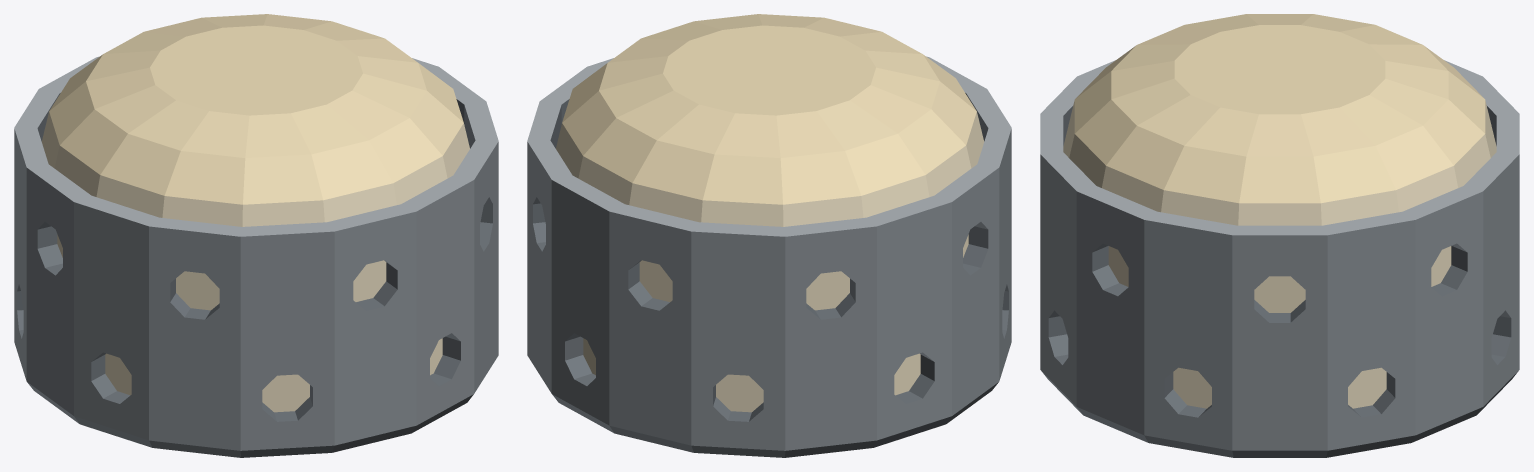
The model's file is FMS_Workshop_PRD_01.fbx.
The picture shows the model from 3 angles, left to right: view 1: azimuth 30°, elevation 25°; view 2: azimuth 150°, elevation 25°; view 3: azimuth 270°, elevation 25°; orthographic projection.
Parts seen in each view (by area): view 1: FMS_Workshop_PRD_01_Body; view 2: FMS_Workshop_PRD_01_Body; view 3: FMS_Workshop_PRD_01_Body.
Boxes of the visible parts, box(x1,y1,x2,y2) form: FMS_Workshop_PRD_01_Body: box(14, 14, 498, 457); FMS_Workshop_PRD_01_Body: box(527, 14, 1011, 457); FMS_Workshop_PRD_01_Body: box(1040, 14, 1519, 457).
Size of the model in its own units: 0.25 by 0.167 by 0.25.
Materials: 1 (1 with a texture image).
